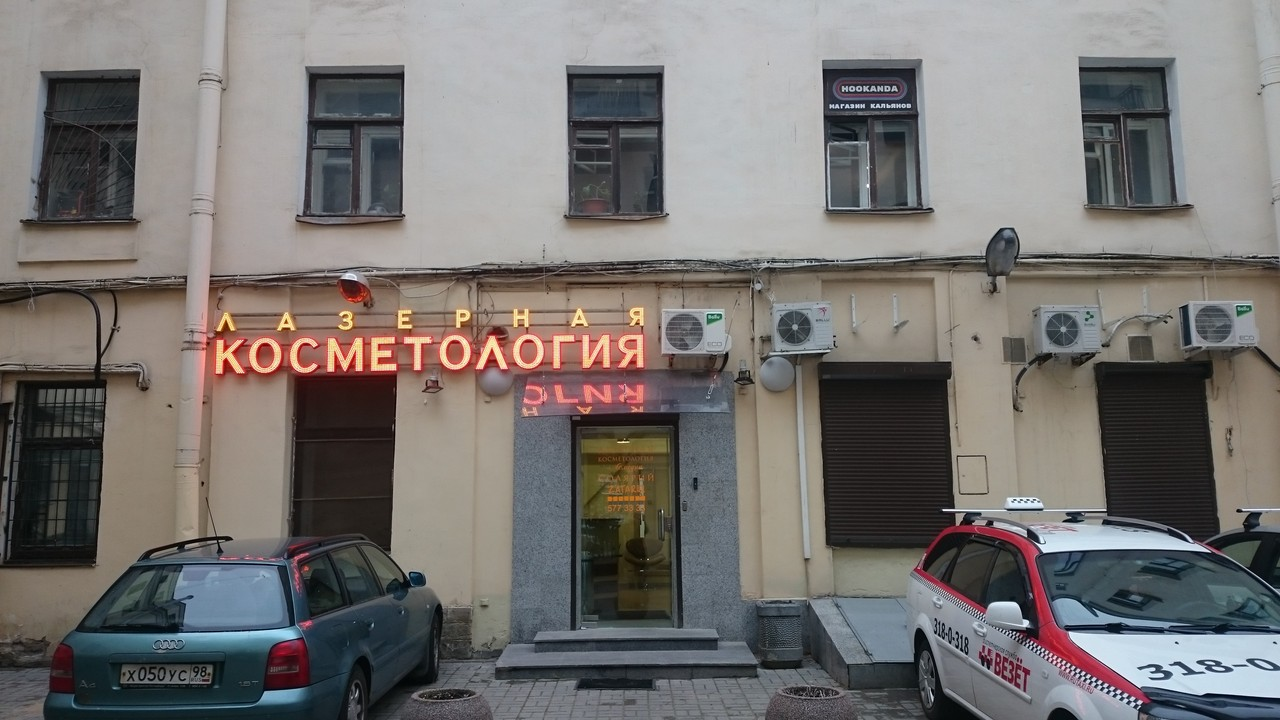door: (573, 420, 678, 629)
signboard: (216, 308, 645, 371)
window: (817, 363, 957, 545), (6, 382, 108, 572), (305, 69, 407, 220), (823, 62, 922, 210), (37, 72, 137, 218), (1079, 58, 1176, 207), (567, 69, 663, 212)
